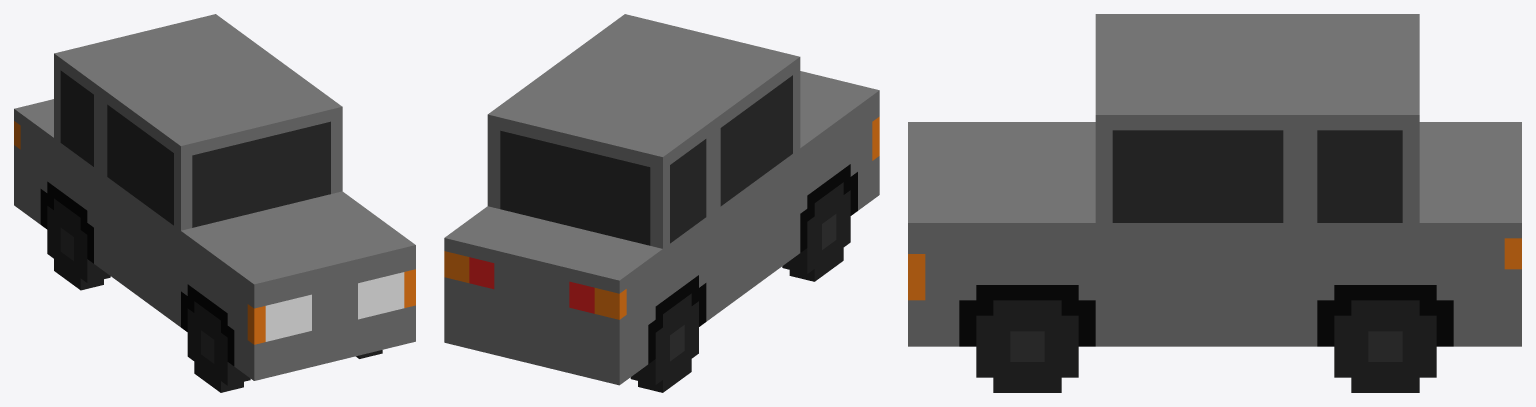
File: kit-voxel-standard-grey.glb
The picture shows the model from 3 angles, left to right: view 1: azimuth 30°, elevation 25°; view 2: azimuth 150°, elevation 25°; view 3: azimuth 270°, elevation 25°; orthographic projection. The views are drawn at different scales.
Visible parts, largest first — view 1: geometry_1; view 2: geometry_1; view 3: geometry_1.
Part boxes in pixels (x1,y1,x2,y2): geometry_1: [14, 14, 415, 392]; geometry_1: [444, 14, 879, 392]; geometry_1: [908, 14, 1521, 392].
Bounding box in the file's own units: 1.4 × 1.8 × 3.6.
1 material, 1 textured.
